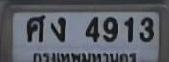1: (123, 16, 132, 41)
3: (138, 16, 153, 41)
4: (85, 16, 98, 41)
9: (102, 16, 117, 40)
A07: (50, 16, 65, 41)
A38: (26, 14, 44, 41)
